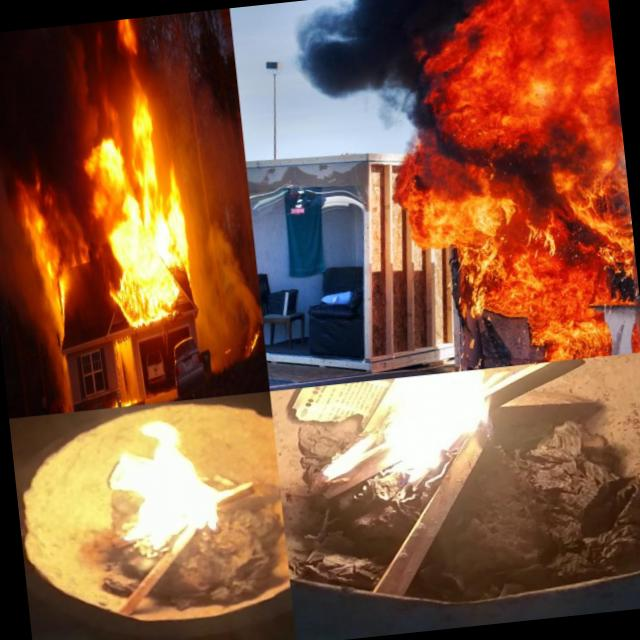fire: (389, 0, 640, 369), (284, 359, 586, 522), (74, 75, 192, 322), (88, 397, 230, 564), (15, 162, 72, 332), (63, 232, 94, 273), (110, 18, 138, 63)
smoke: (249, 0, 455, 140), (169, 80, 262, 346), (27, 23, 100, 152), (0, 176, 31, 332), (37, 328, 73, 414)
